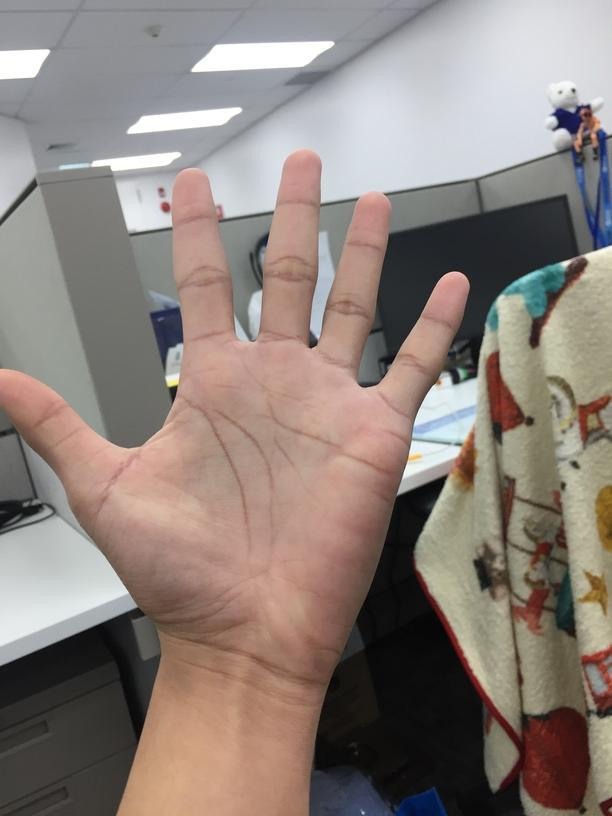hand: (0, 148, 469, 673)
